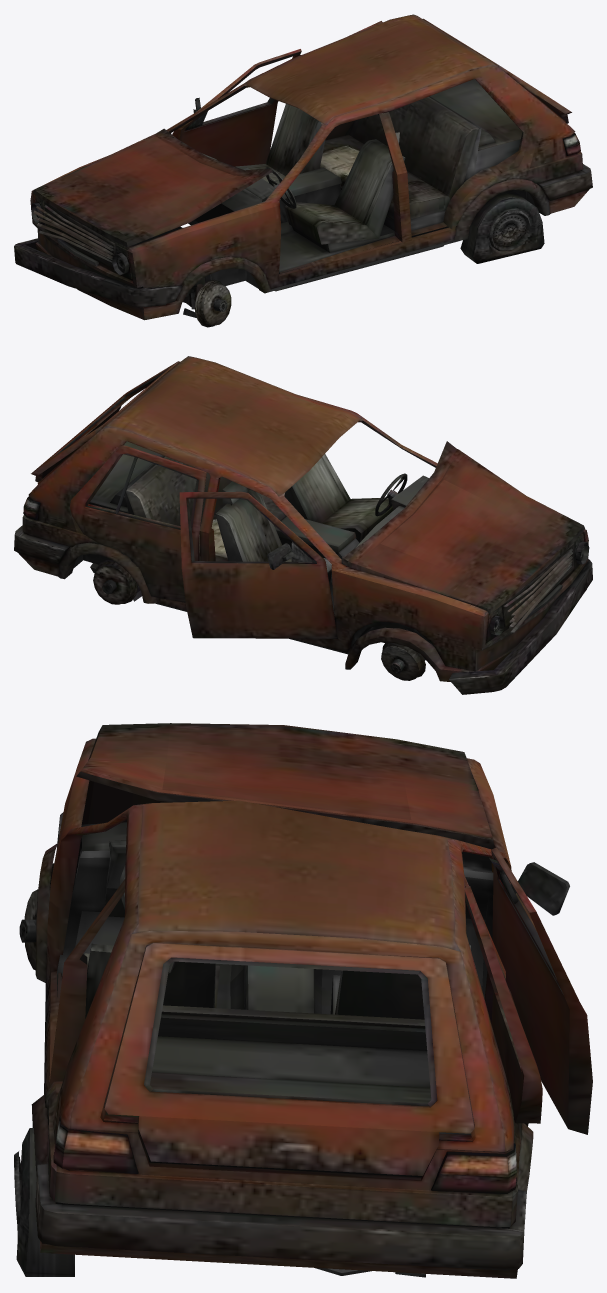
File: car001a_hatchback.glb
The picture shows the model from 3 angles, top to bottom: view 1: azimuth 30°, elevation 25°; view 2: azimuth 150°, elevation 25°; view 3: azimuth 270°, elevation 25°; orthographic projection. The views are drawn at different scales.
Visible parts, largest first — view 1: 0_car001a_01; view 2: 0_car001a_01; view 3: 0_car001a_01.
Part boxes in pixels (<box>): 0_car001a_01: <box>14,14,592,327</box>; 0_car001a_01: <box>14,356,592,694</box>; 0_car001a_01: <box>14,723,592,1278</box>.
Size of the model in its own units: 3.85 by 1.43 by 2.08.
1 material, 1 textured.
